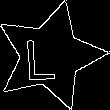L_N: (32, 30, 68, 82)
